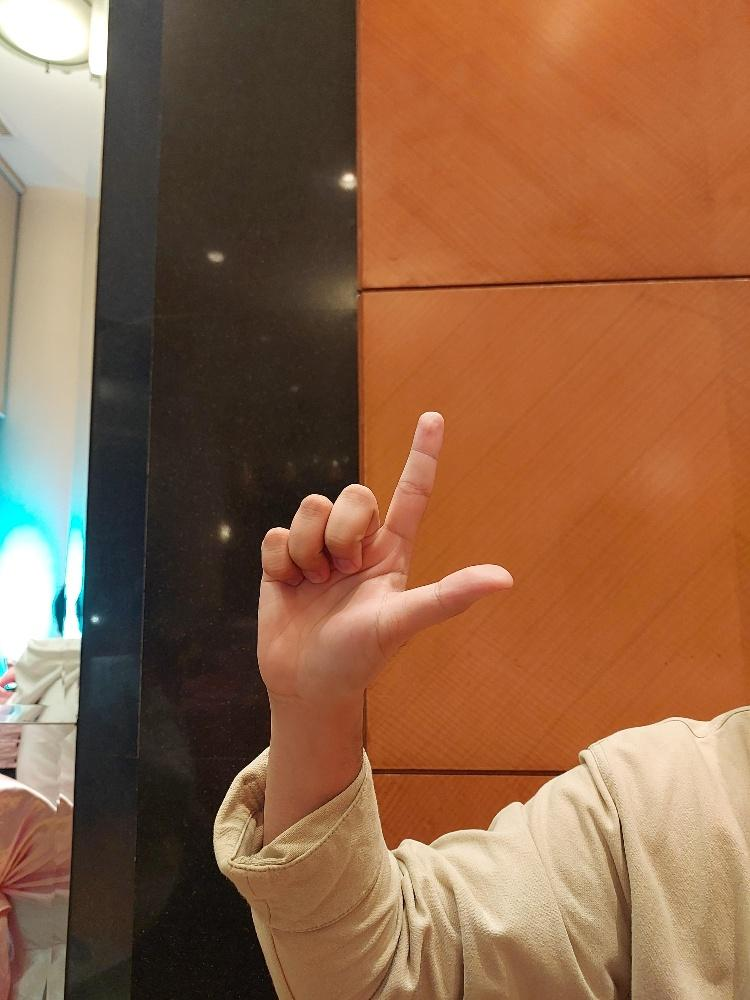l: (255, 409, 515, 698)
